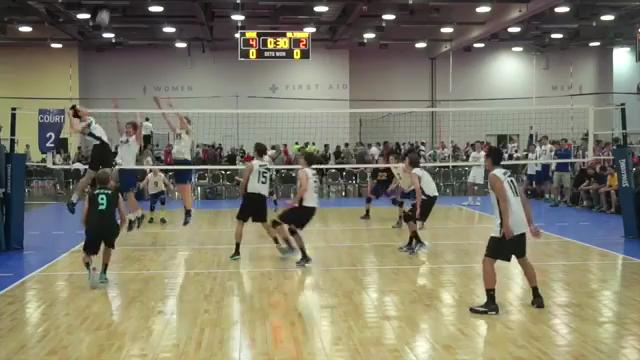Attack: (54, 94, 127, 228)
Block: (106, 93, 150, 236), (153, 92, 199, 228)
Player: (469, 147, 543, 314), (230, 142, 280, 259), (272, 152, 318, 265), (82, 169, 125, 287), (400, 154, 437, 253), (140, 168, 171, 224), (388, 169, 414, 227), (268, 170, 278, 211), (378, 158, 384, 163)
ball: (96, 12, 110, 28)
